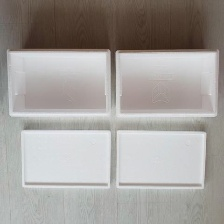foam_box: (2, 45, 113, 119), (113, 46, 222, 119), (113, 126, 213, 193), (17, 125, 113, 192)
